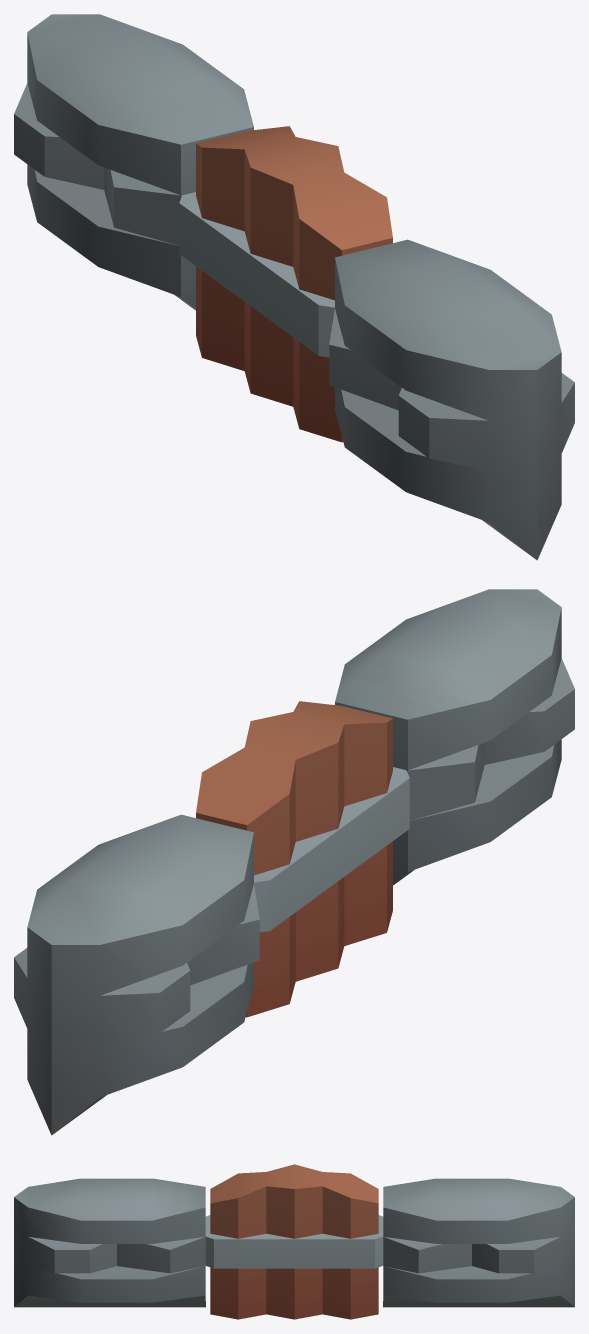
The model's file is kay-cerca-pedra-portao.gltf.
3 renders of one model, top to bottom at view 1: azimuth 30°, elevation 25°; view 2: azimuth 150°, elevation 25°; view 3: azimuth 270°, elevation 25°, orthographic. The views are drawn at different scales.
Visible parts, largest first — view 1: fence_stone_straight_gate; view 2: fence_stone_straight_gate; view 3: fence_stone_straight_gate.
Boxes of the visible parts, bbox=[...] form: fence_stone_straight_gate: bbox=[14, 14, 574, 560]; fence_stone_straight_gate: bbox=[14, 589, 574, 1135]; fence_stone_straight_gate: bbox=[14, 1164, 574, 1319].
Size of the model in its own units: 1 by 1.48 by 5.77.
Materials: 1 (1 with a texture image).
